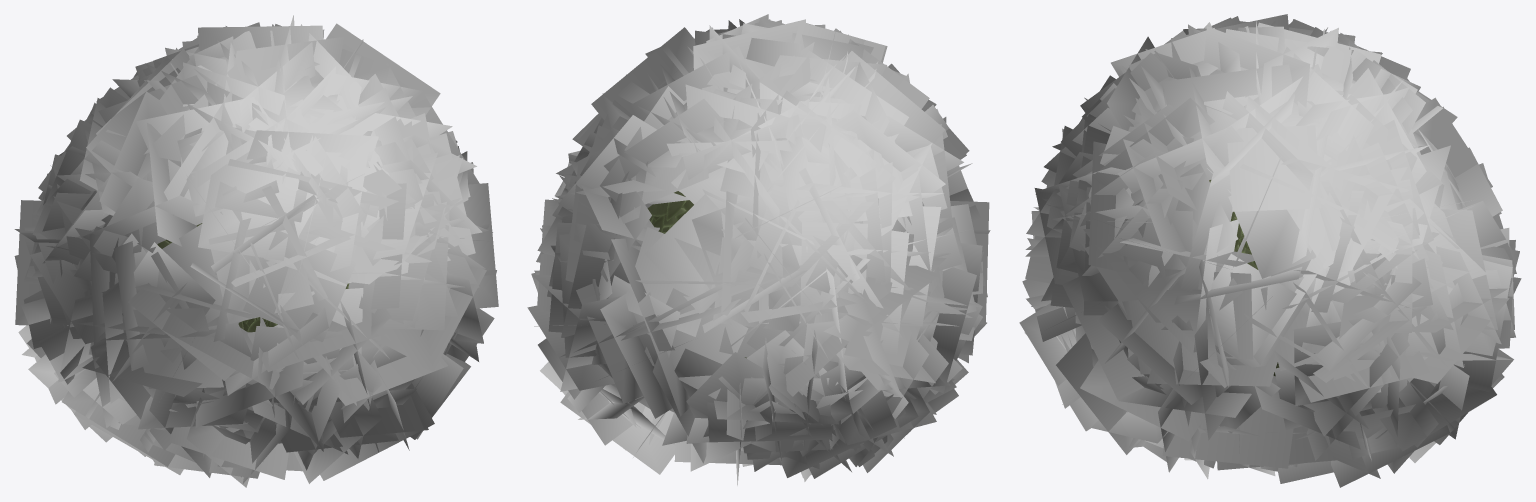
Rendered from SM_LeaveBush_03.fbx.
3 views of the same model, side by side, from view 1: azimuth 30°, elevation 25°; view 2: azimuth 150°, elevation 25°; view 3: azimuth 270°, elevation 25° (orthographic). The views are drawn at different scales.
Parts seen in each view (by area): view 1: SM_LeaveBush_03_Leave; view 2: SM_LeaveBush_03_Leave, SM_LeaveBush_03; view 3: SM_LeaveBush_03_Leave.
Part boxes in pixels (bbox=[...]): SM_LeaveBush_03_Leave: bbox=[14, 15, 498, 487]; SM_LeaveBush_03_Leave: bbox=[527, 14, 990, 485]; SM_LeaveBush_03: bbox=[647, 191, 746, 358]; SM_LeaveBush_03_Leave: bbox=[1019, 14, 1521, 487].
Bounding box in the file's own units: 190 × 184 × 201.
